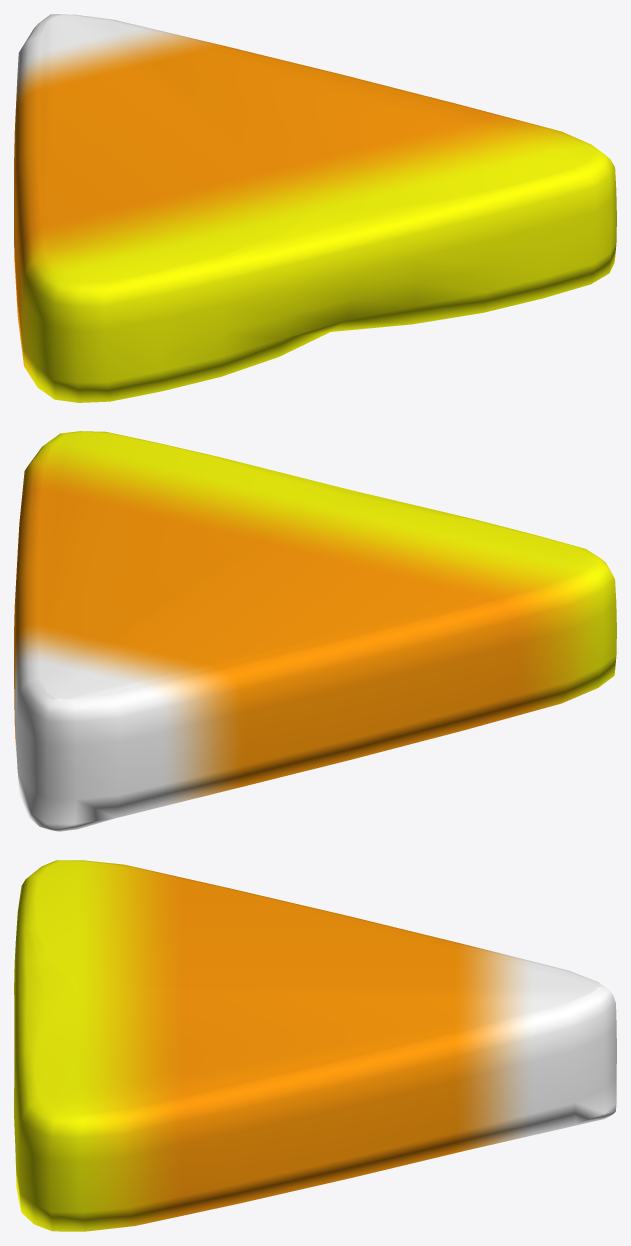
File: candycorn.fbx
3 views of the same model, one above another, from view 1: azimuth 30°, elevation 25°; view 2: azimuth 150°, elevation 25°; view 3: azimuth 270°, elevation 25° (orthographic).
Parts seen in each view (by area): view 1: Cube; view 2: Cube; view 3: Cube.
Boxes of the visible parts, x1,y1,x2,y2 form: Cube: (14, 14, 616, 402); Cube: (14, 431, 616, 831); Cube: (14, 860, 616, 1231).
Size of the model in its own units: 2521 by 538 by 2372.
